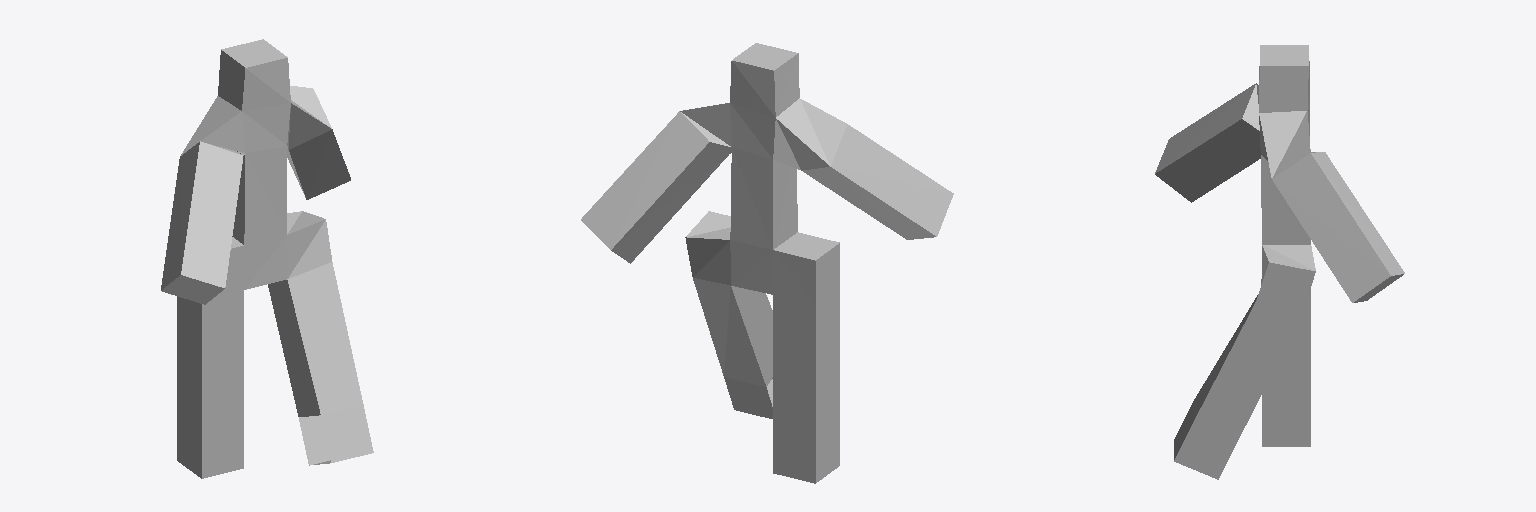
The model's file is cuboid_000006.obj.
3 views of the same model, side by side, from view 1: azimuth 30°, elevation 25°; view 2: azimuth 150°, elevation 25°; view 3: azimuth 270°, elevation 25° (orthographic).
Visible parts, largest first — view 1: Cube; view 2: Cube; view 3: Cube.
Boxes of the visible parts, x1=… form: Cube: x1=161, y1=39, x2=373, y2=478; Cube: x1=581, y1=43, x2=953, y2=483; Cube: x1=1155, y1=45, x2=1404, y2=479.
Size of the model in its own units: 3.1 by 4.5 by 2.55.